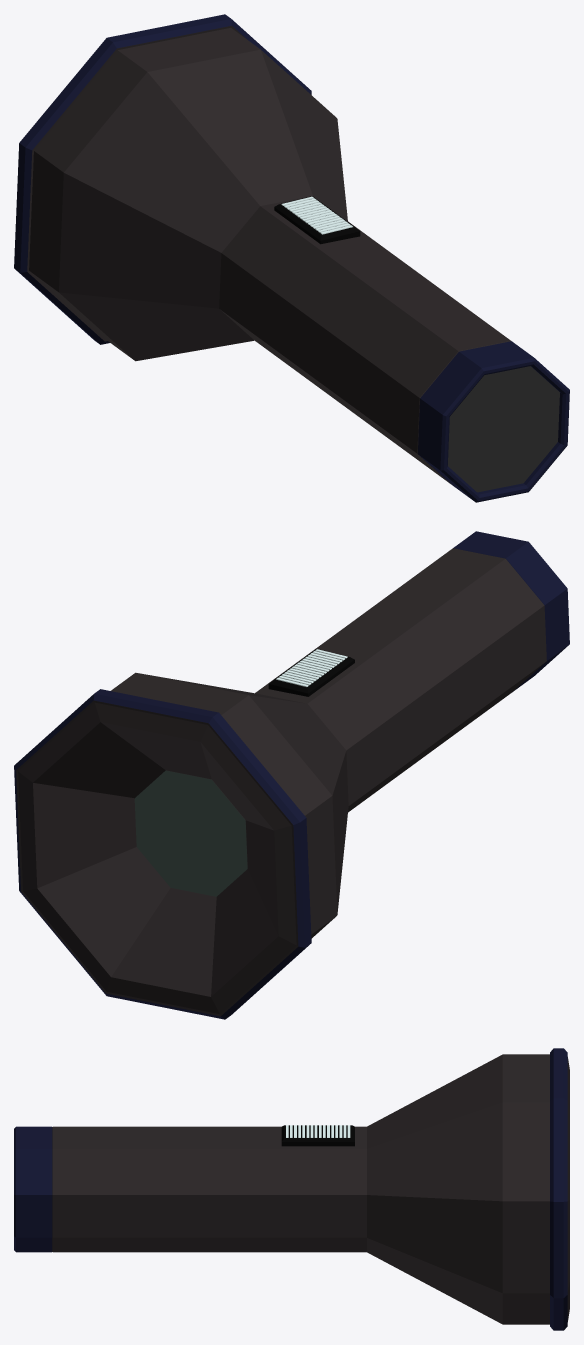
Rendered from Linterna_junta.fbx.
The picture shows the model from 3 angles, top to bottom: view 1: azimuth 30°, elevation 25°; view 2: azimuth 150°, elevation 25°; view 3: azimuth 270°, elevation 25°; orthographic projection. The views are drawn at different scales.
Parts seen in each view (by area): view 1: Cubo.001; view 2: Cubo.001; view 3: Cubo.001.
Boxes of the visible parts, box(x1,y1,x2,y2) form: Cubo.001: box(14, 14, 569, 502); Cubo.001: box(14, 531, 569, 1019); Cubo.001: box(14, 1048, 569, 1330).
Size of the model in its own units: 423 by 423 by 881.
